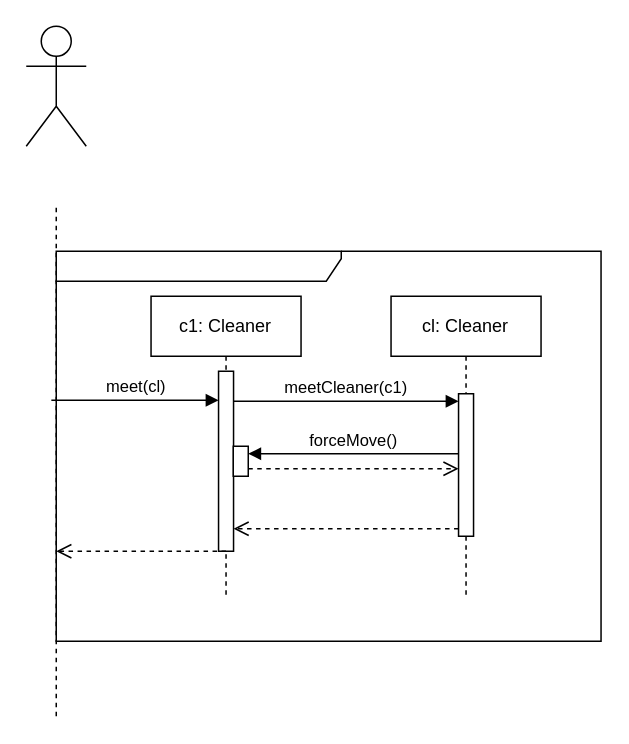
This 629x744 diagram has some shape labels left out. Each missing label, with the centre of its shape:
":Tester" goes at (55,85).
"sd Cleaner Goes To Student" goes at (328,445).
